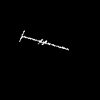treble_crochet: (20, 31, 65, 48)
